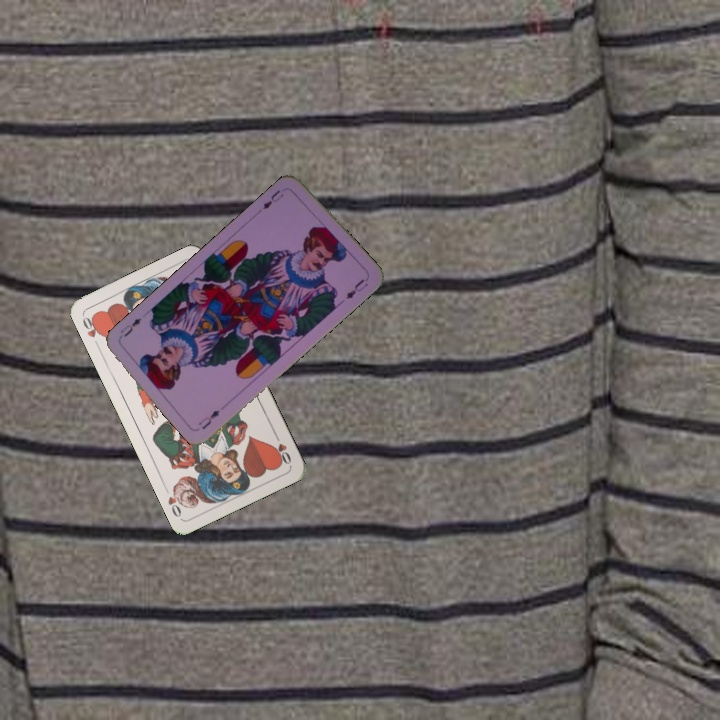EU: (194, 405, 223, 432), (259, 185, 286, 212)
HO: (78, 311, 105, 350), (270, 429, 294, 467)
